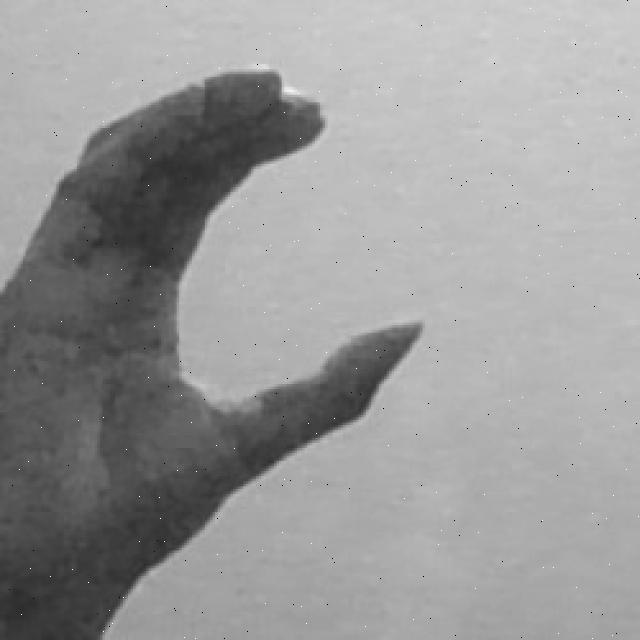C: (5, 66, 426, 635)
